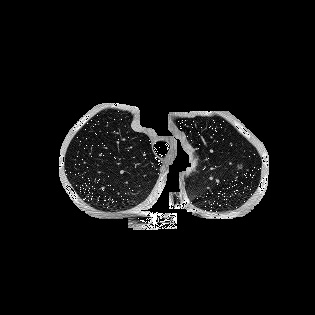PN: (238, 164, 242, 168)
